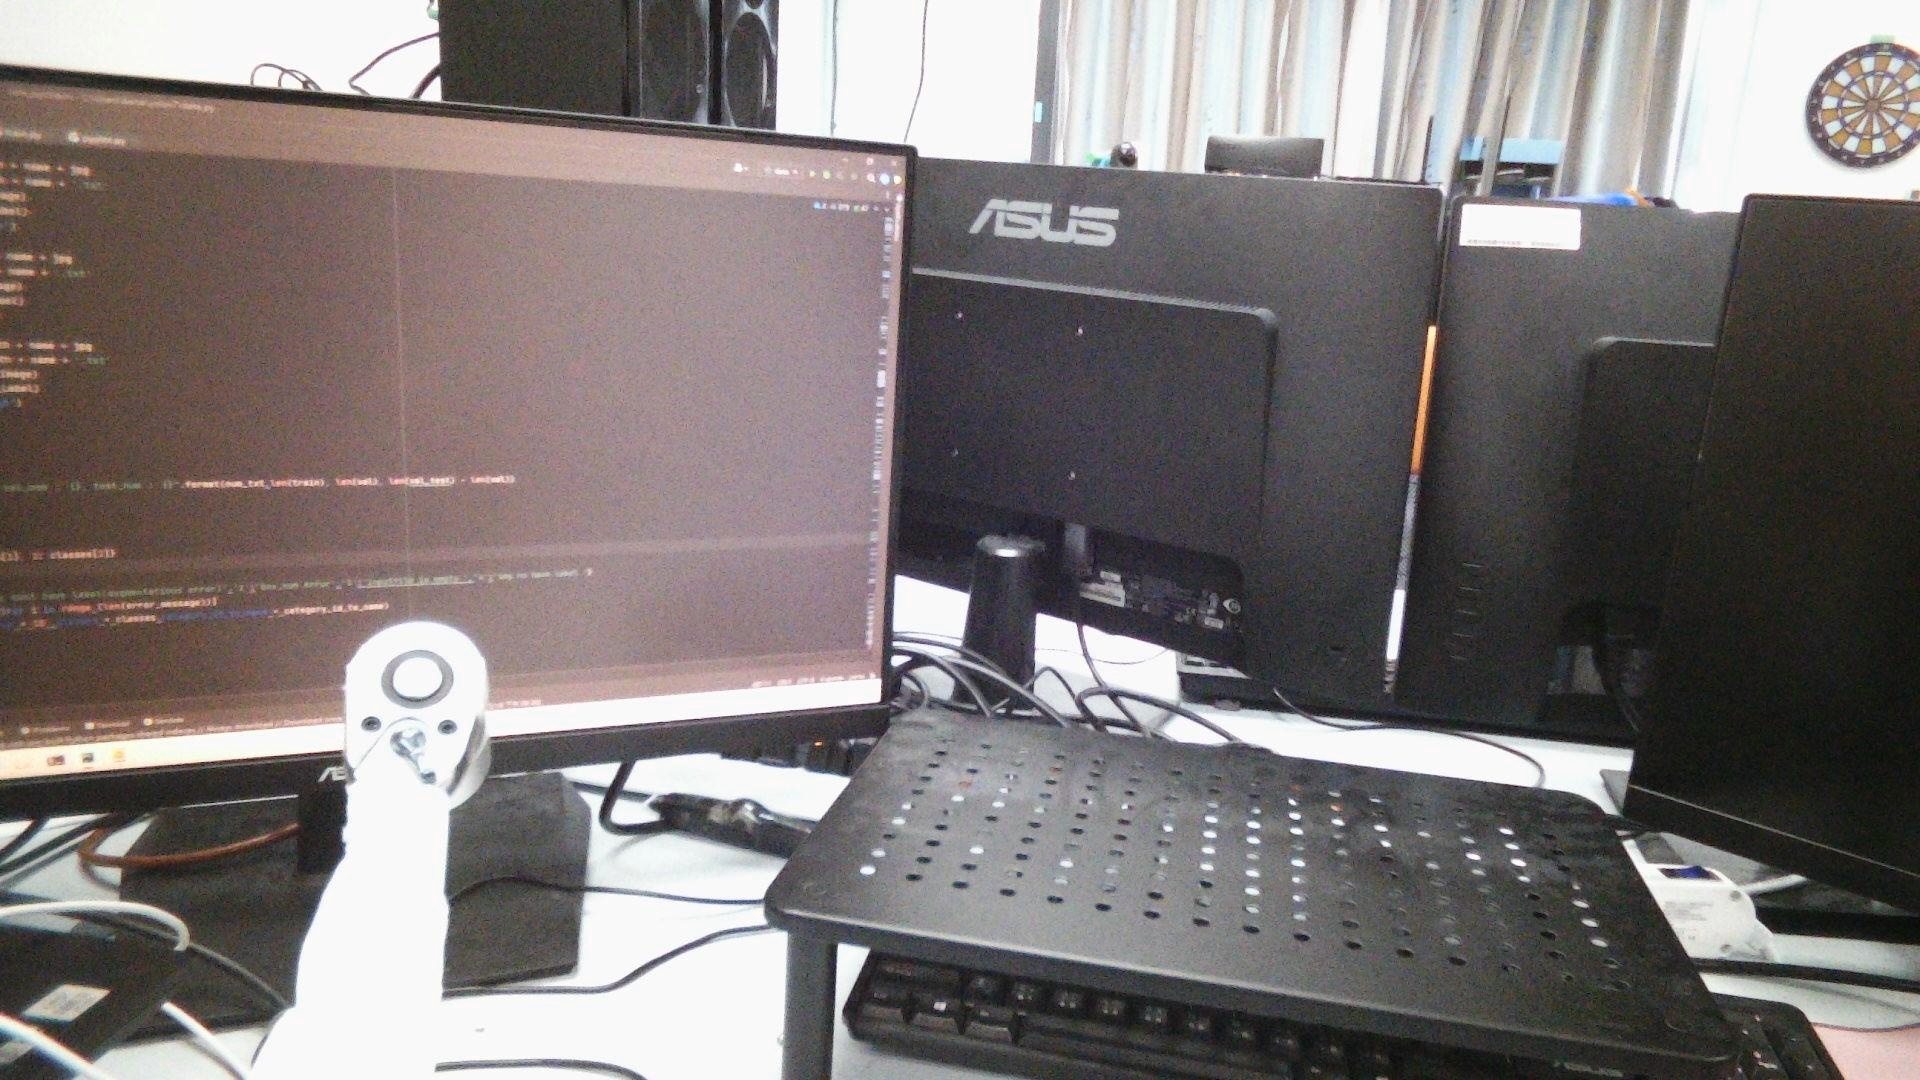wrench: (377, 644, 456, 709)
